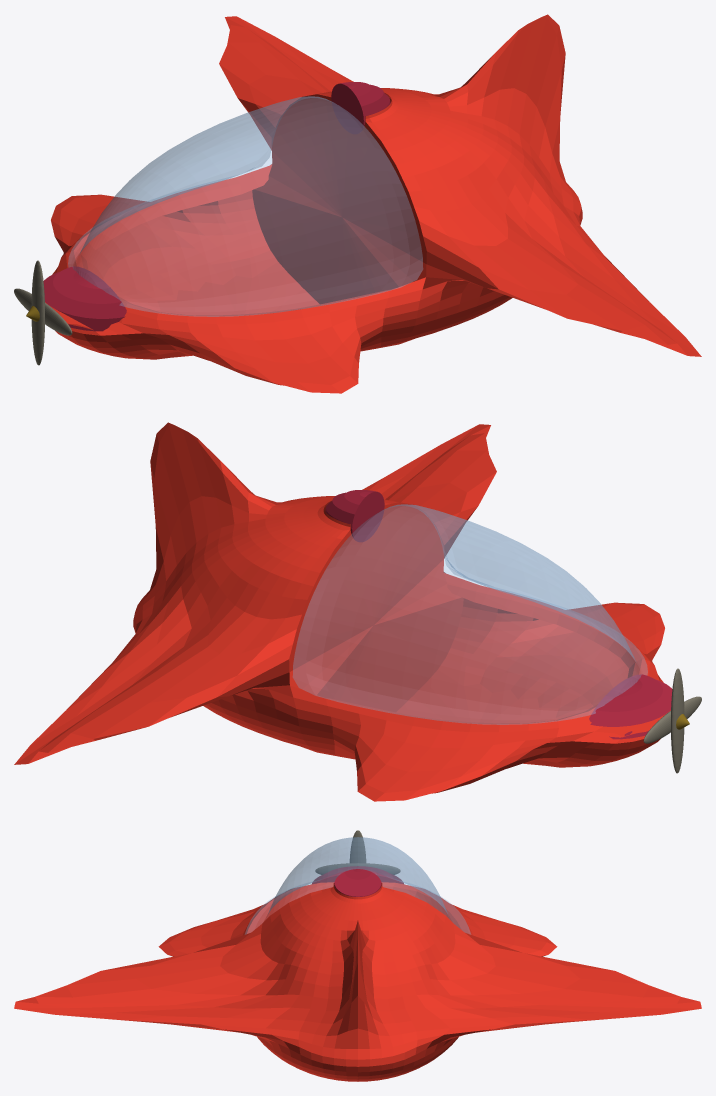
File: Plane1Regular.fbx
3 renders of one model, top to bottom at view 1: azimuth 30°, elevation 25°; view 2: azimuth 150°, elevation 25°; view 3: azimuth 270°, elevation 25°, orthographic. The views are drawn at different scales.
Parts seen in each view (by area): view 1: Cockpit, Canopy, Nose, Inlet, Propeler1, Propeler2; view 2: Cockpit, Canopy, Nose, Inlet, Propeler1, Propeler2; view 3: Cockpit, Canopy, Inlet, Nose, Propeler2, Propeler1.
Boxes of the visible parts, left/top/right/bottom form: Cockpit: left=45, top=14, right=701, bottom=393; Canopy: left=68, top=96, right=422, bottom=316; Nose: left=43, top=266, right=126, bottom=331; Inlet: left=331, top=82, right=390, bottom=134; Propeler1: left=31, top=260, right=44, bottom=365; Propeler2: left=14, top=288, right=72, bottom=335; Cockpit: left=14, top=422, right=670, bottom=801; Canopy: left=293, top=504, right=647, bottom=724; Nose: left=589, top=674, right=672, bottom=739; Inlet: left=325, top=490, right=384, bottom=542; Propeler1: left=671, top=668, right=684, bottom=773; Propeler2: left=643, top=696, right=701, bottom=743; Cockpit: left=14, top=882, right=701, bottom=1081; Canopy: left=245, top=837, right=470, bottom=934; Inlet: left=334, top=869, right=381, bottom=896; Nose: left=312, top=866, right=403, bottom=884; Propeler2: left=315, top=863, right=400, bottom=874; Propeler1: left=350, top=830, right=365, bottom=862.
Size of the model in its own units: 461 by 203 by 684.
